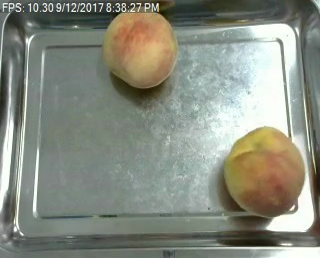Peach: (223, 124, 305, 216), (103, 7, 178, 88)
